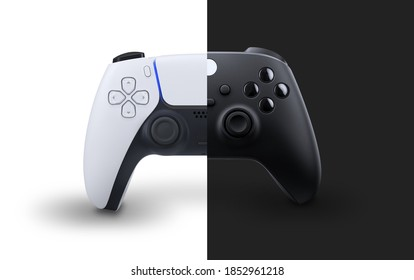gamingconsole: (82, 50, 319, 210)
